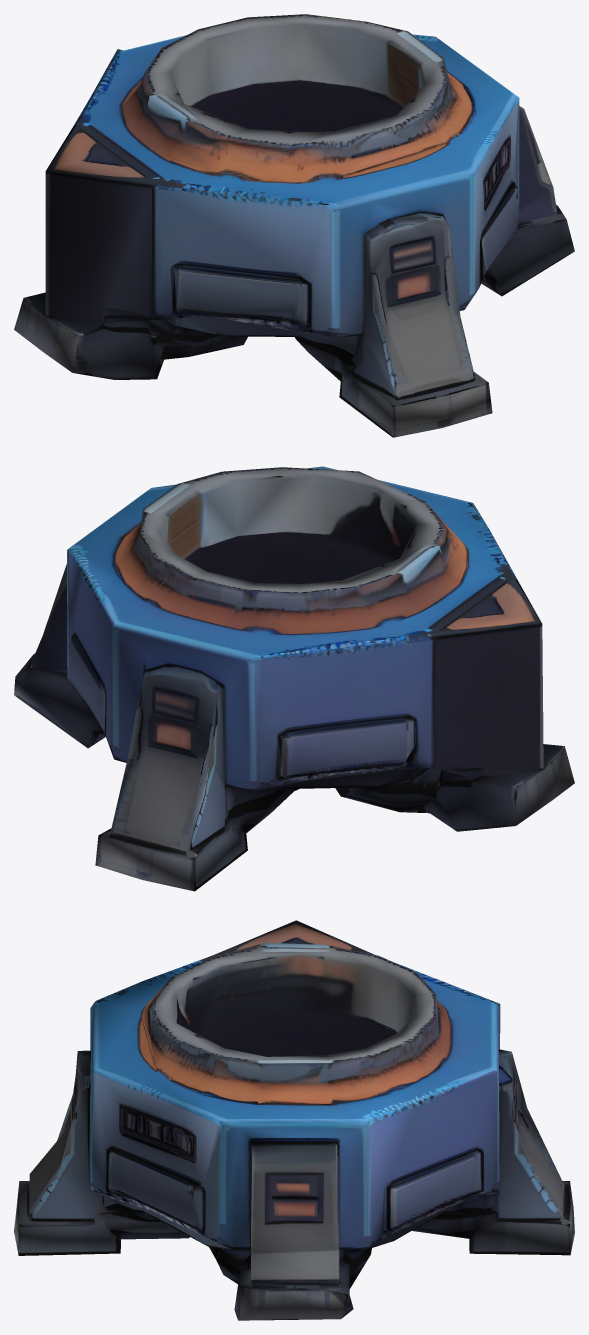
The model's file is BASE_torreta.obj.
3 renders of one model, top to bottom at view 1: azimuth 30°, elevation 25°; view 2: azimuth 150°, elevation 25°; view 3: azimuth 270°, elevation 25°, orthographic. The views are drawn at different scales.
Parts seen in each view (by area): view 1: tripo_node_eb3b59a3-e4f6-4623-991e-88687850caec; view 2: tripo_node_eb3b59a3-e4f6-4623-991e-88687850caec; view 3: tripo_node_eb3b59a3-e4f6-4623-991e-88687850caec.
Part boxes in pixels (bbox=[...]): tripo_node_eb3b59a3-e4f6-4623-991e-88687850caec: bbox=[14, 14, 574, 437]; tripo_node_eb3b59a3-e4f6-4623-991e-88687850caec: bbox=[14, 466, 574, 891]; tripo_node_eb3b59a3-e4f6-4623-991e-88687850caec: bbox=[14, 920, 574, 1320].
Bounding box in the file's own units: 0.9879 × 0.4509 × 0.9968.
1 material, 1 textured.
